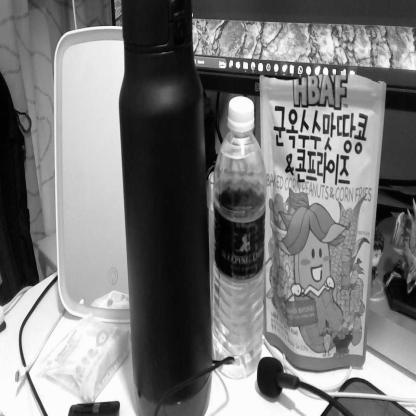plastic_bottles: (211, 92, 267, 378)
